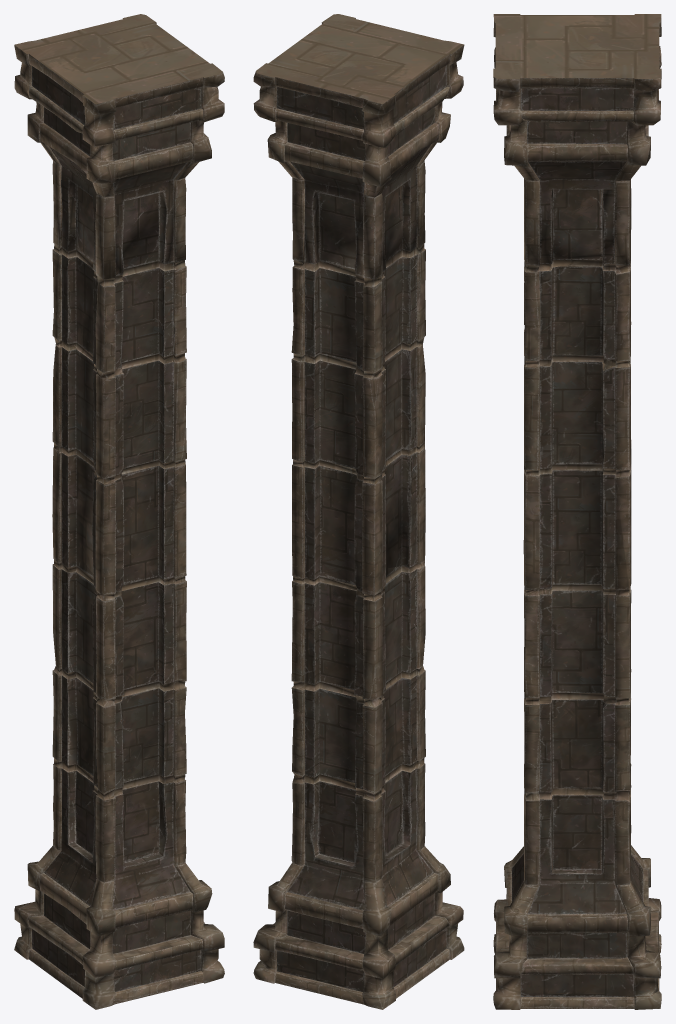
Rendered from columna3Mesh.fbx.
The picture shows the model from 3 angles, left to right: view 1: azimuth 30°, elevation 25°; view 2: azimuth 150°, elevation 25°; view 3: azimuth 270°, elevation 25°; orthographic projection. The views are drawn at different scales.
Parts seen in each view (by area): view 1: columna 3 low sculpt.002; view 2: columna 3 low sculpt.002; view 3: columna 3 low sculpt.002.
Part boxes in pixels (left/top/right/bottom): columna 3 low sculpt.002: left=14, top=14, right=224, bottom=1009; columna 3 low sculpt.002: left=253, top=14, right=464, bottom=1009; columna 3 low sculpt.002: left=493, top=14, right=661, bottom=1009.
Bounding box in the file's own units: 168 × 1115 × 183.
Materials: 2 (2 with a texture image).
